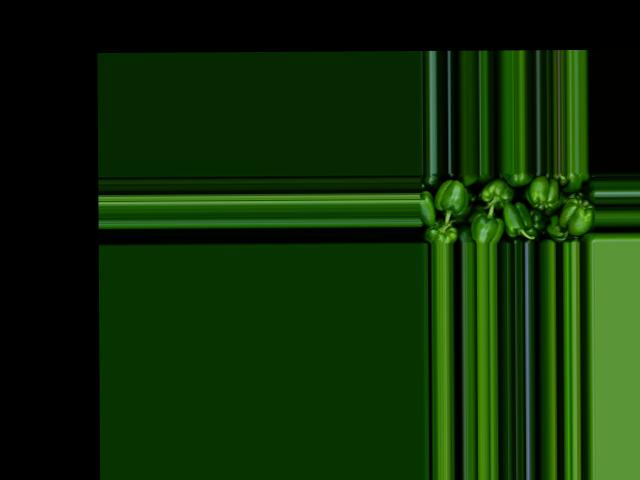bell_pepper: (421, 172, 595, 241)
